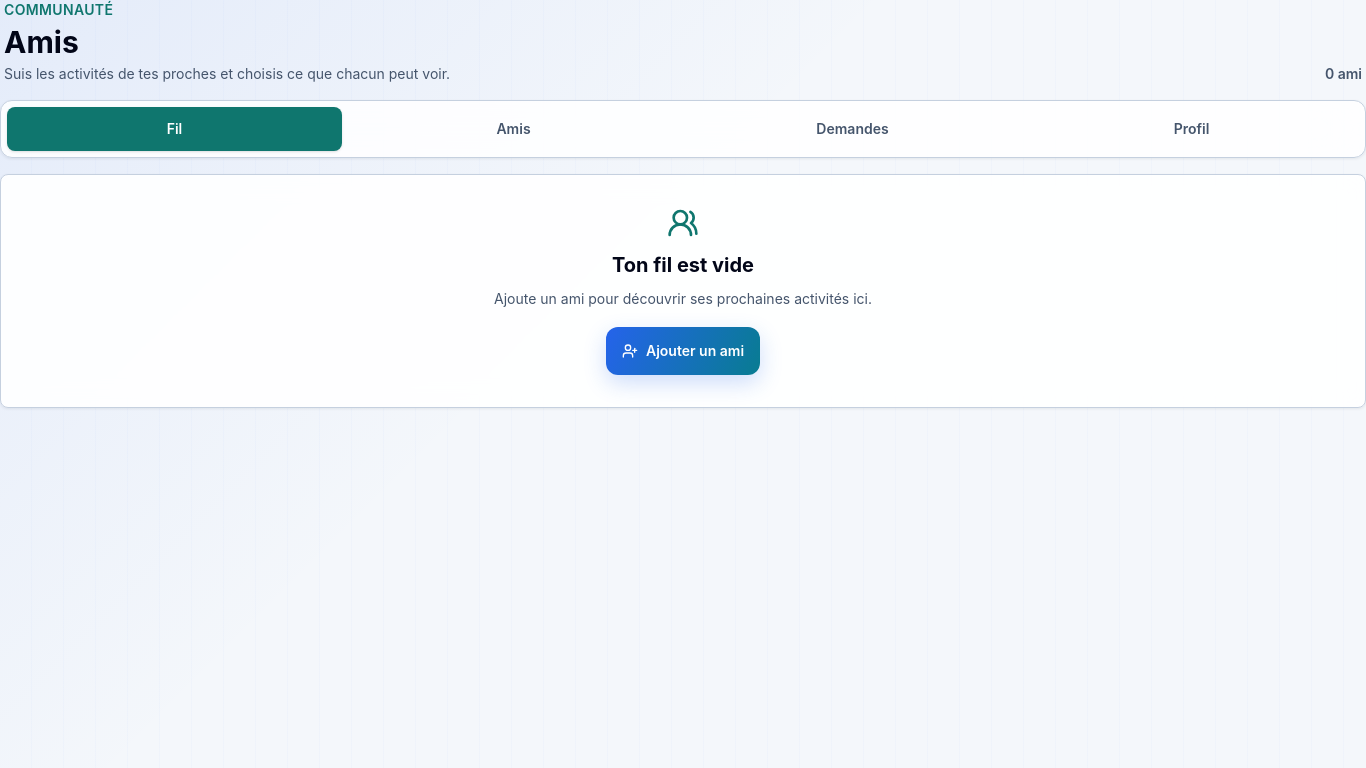
Test case: feedback de visibilité du profil › affiche un toast unique après persistance sans notice verte locale
The image size is (1366, 768).
Click the button with aria-label "Mon profil social": (1192, 129) [1024, 107, 1359, 151]
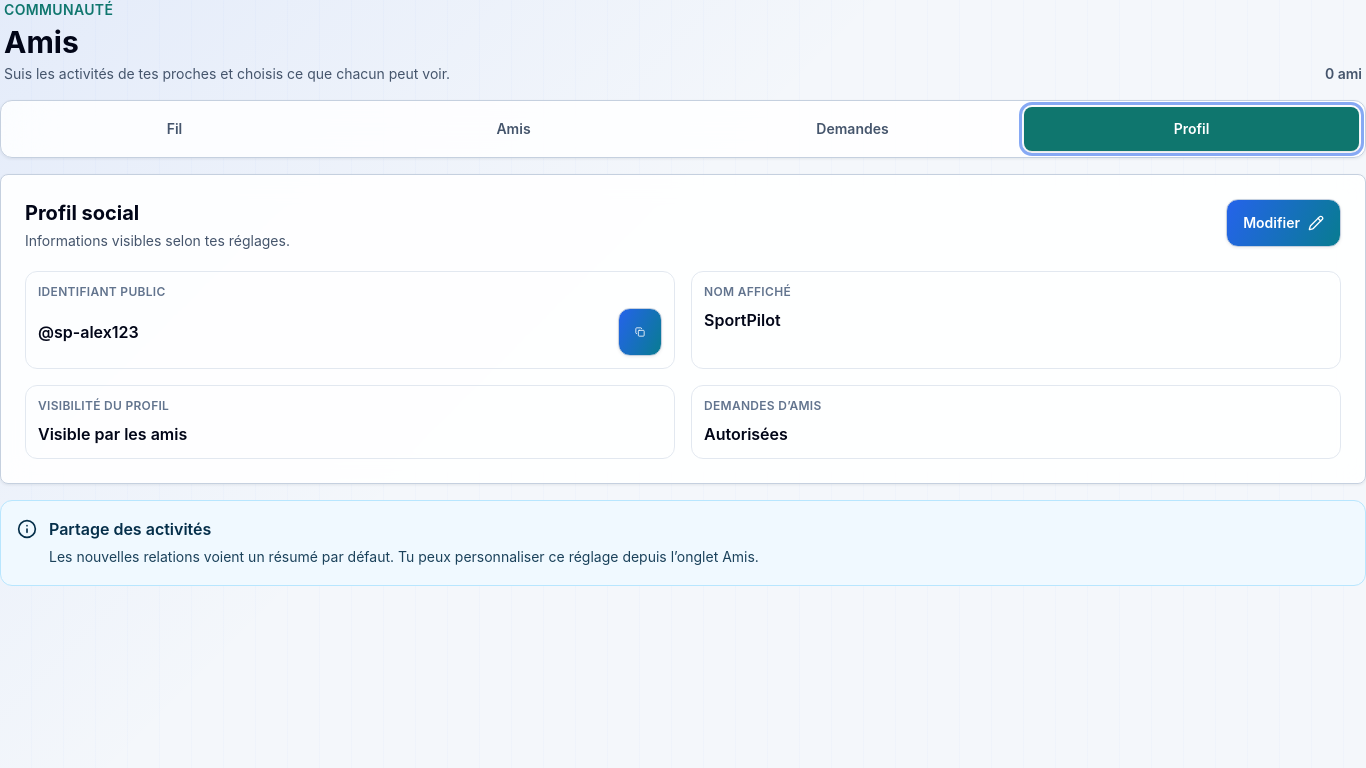
Click the button with aria-label "Modifier le profil public": (1284, 223) [1226, 199, 1341, 247]
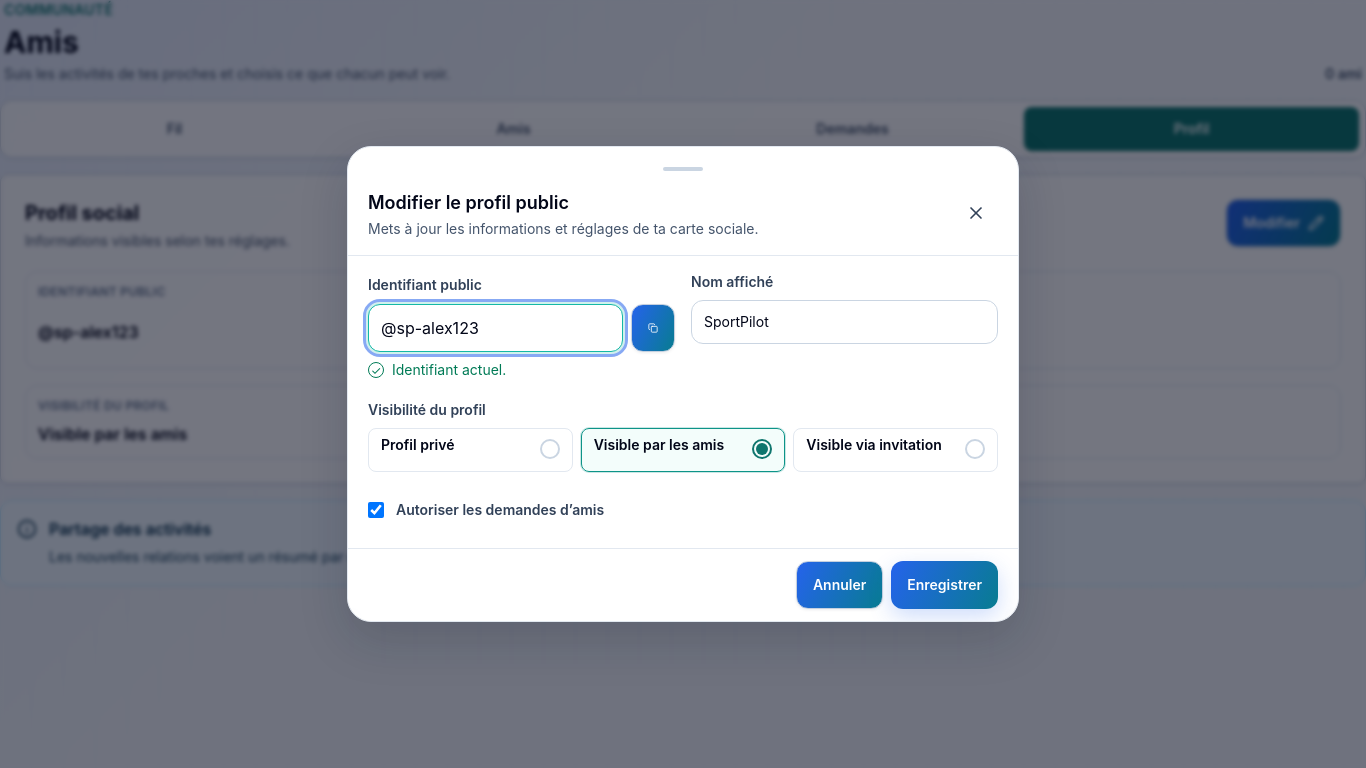
Click the radio button labelled "Profil privé": (470, 450) [368, 428, 573, 472]
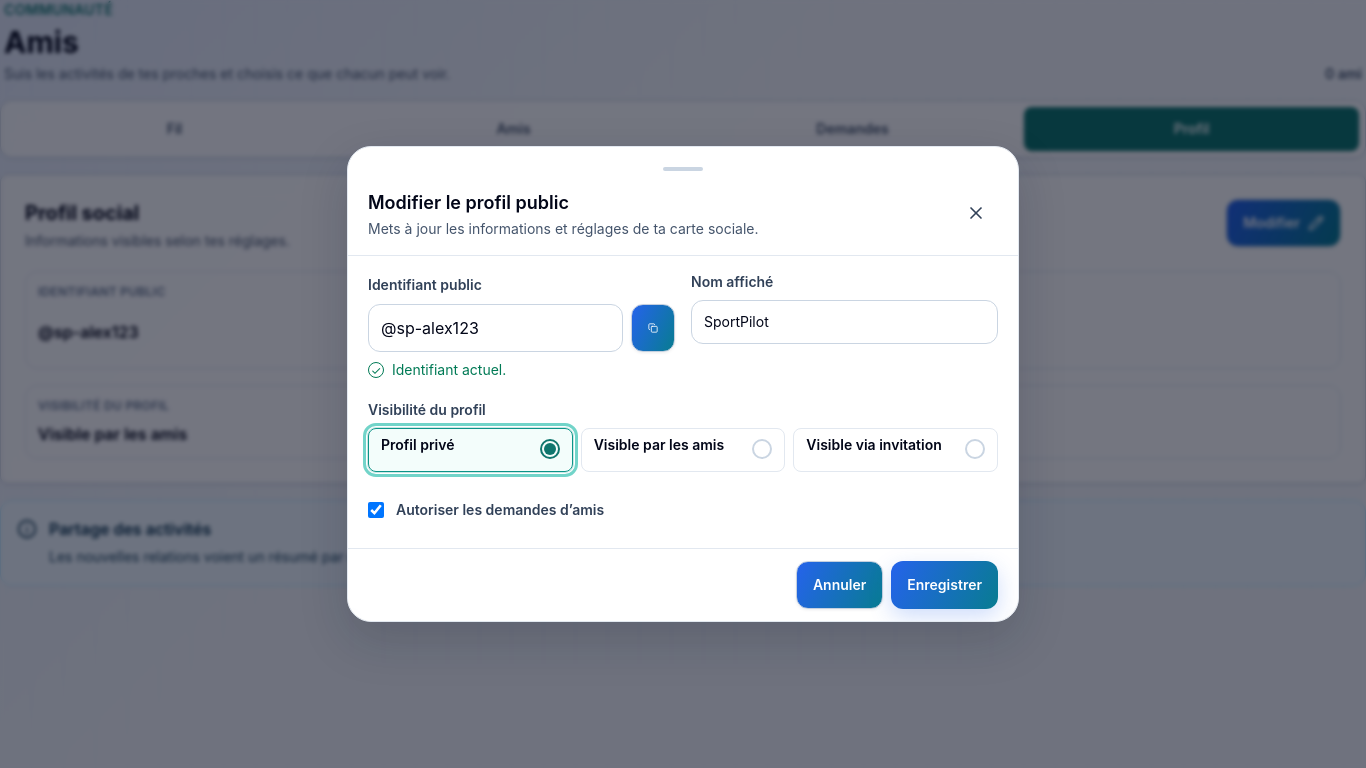
Click the button "Enregistrer": (945, 585) [891, 561, 998, 609]
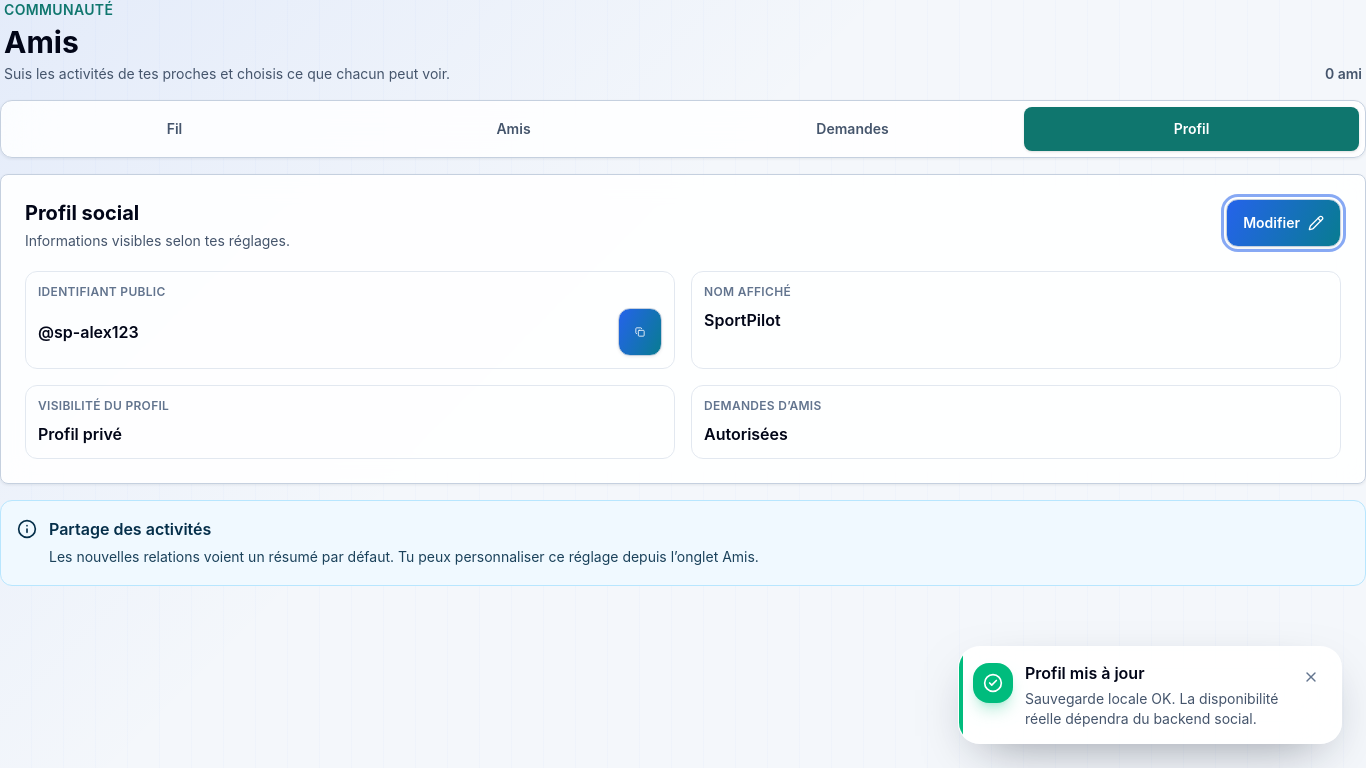
Expected: the text "Profil mis à jour" is shown once, [1025, 663, 1144, 683]
